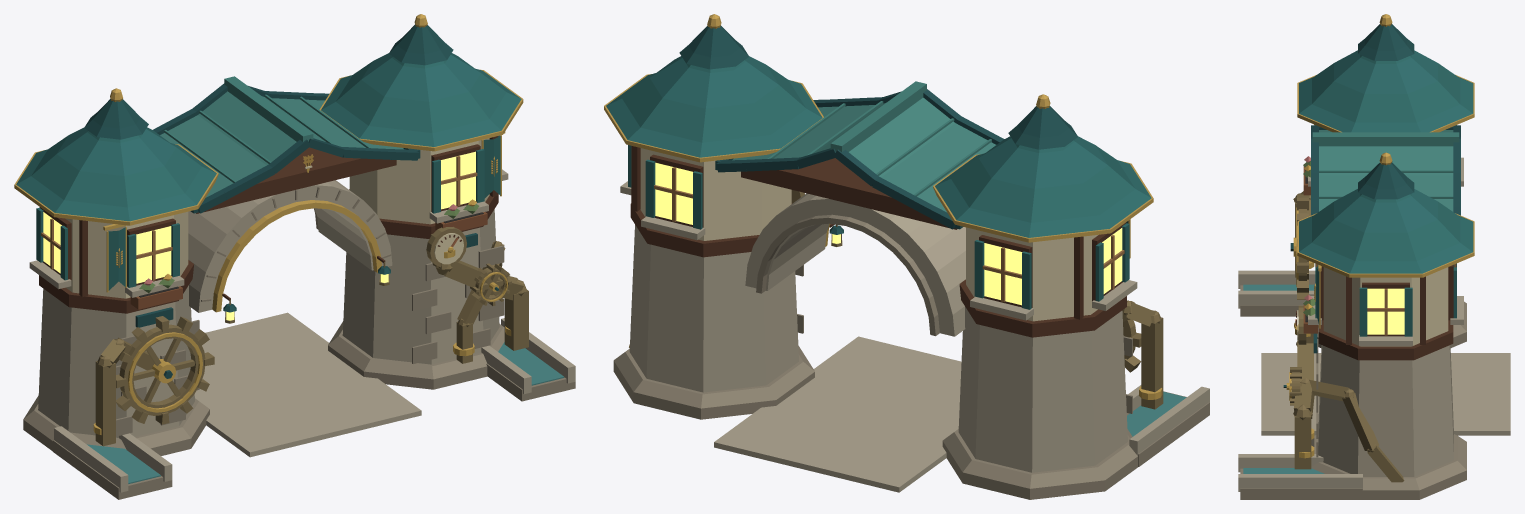
File: rootworks-gate.glb
The picture shows the model from 3 angles, left to right: view 1: azimuth 30°, elevation 25°; view 2: azimuth 150°, elevation 25°; view 3: azimuth 270°, elevation 25°; orthographic projection. The views are drawn at different scales.
Parts seen in each view (by area): view 1: rootworks-gate; view 2: rootworks-gate; view 3: rootworks-gate.
Part boxes in pixels (<box>): rootworks-gate: <box>14,14,575,499</box>; rootworks-gate: <box>604,14,1209,499</box>; rootworks-gate: <box>1238,14,1510,499</box>.
Size of the model in its own units: 10.94 by 7.49 by 5.9.
